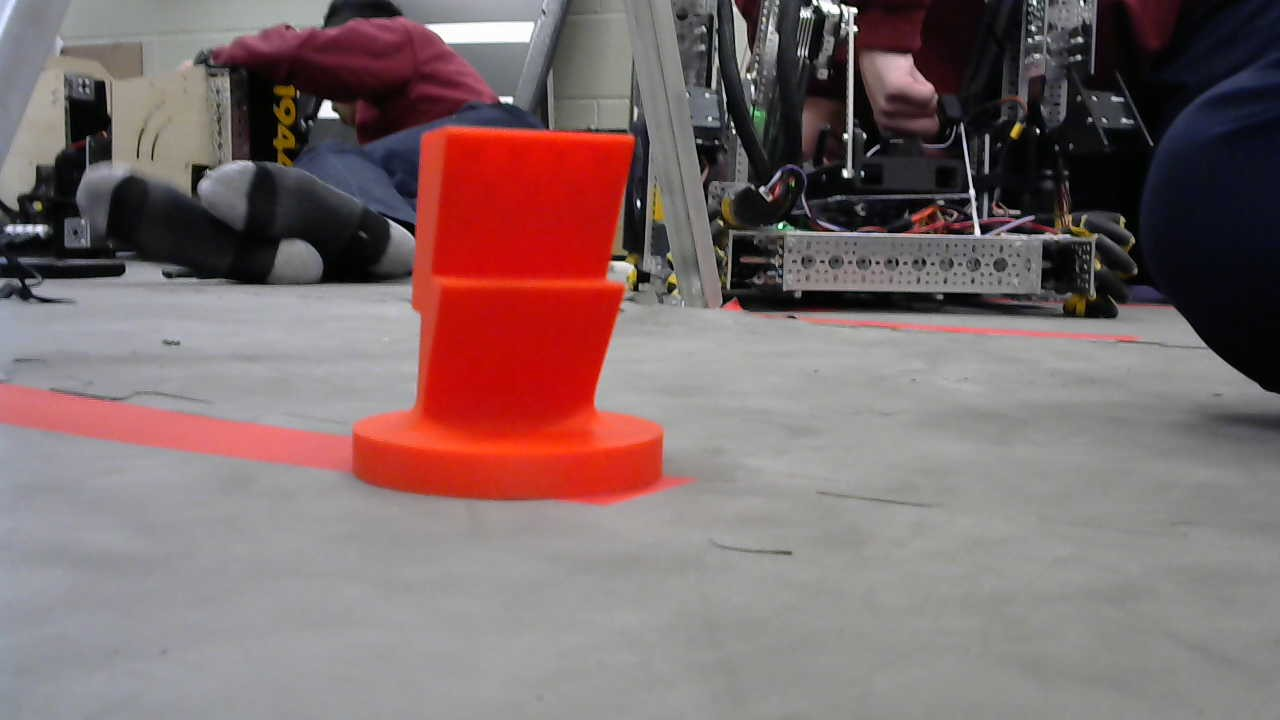redobject: (350, 127, 665, 499)
